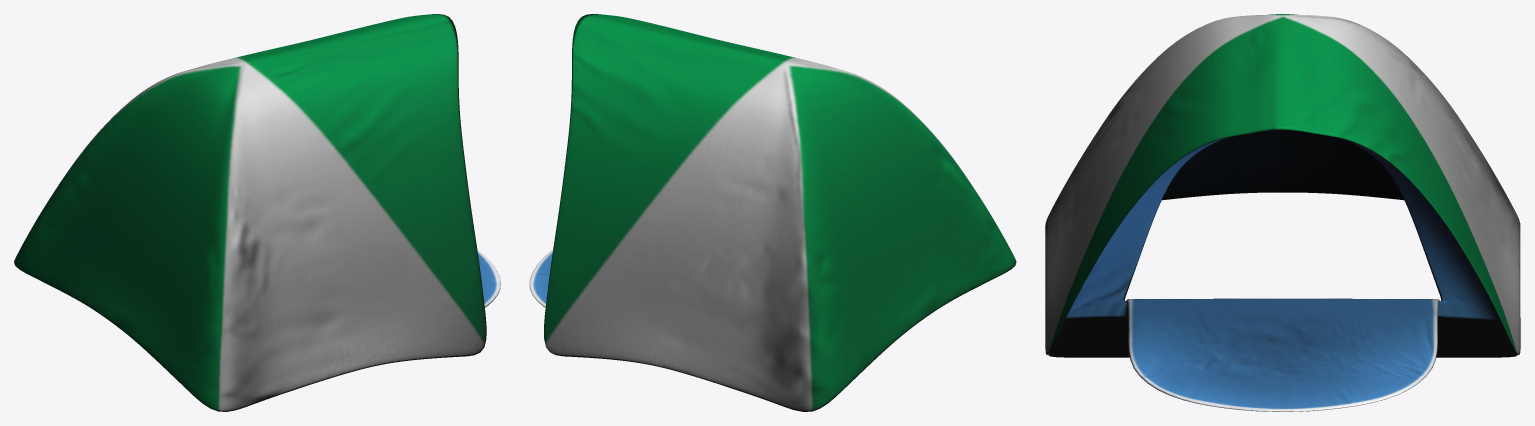
File: Tent.obj
3 views of the same model, side by side, from view 1: azimuth 30°, elevation 25°; view 2: azimuth 150°, elevation 25°; view 3: azimuth 270°, elevation 25° (orthographic). The views are drawn at different scales.
Parts seen in each view (by area): view 1: _Green_Mesh_Tent_V1_L3:_Green_Mesh_Tent_Base; view 2: _Green_Mesh_Tent_V1_L3:_Green_Mesh_Tent_Base; view 3: _Green_Mesh_Tent_V1_L3:_Green_Mesh_Tent_Base.
Part boxes in pixels (x1,y1,x2,y2): _Green_Mesh_Tent_V1_L3:_Green_Mesh_Tent_Base: [14, 14, 500, 411]; _Green_Mesh_Tent_V1_L3:_Green_Mesh_Tent_Base: [529, 14, 1016, 411]; _Green_Mesh_Tent_V1_L3:_Green_Mesh_Tent_Base: [1045, 14, 1520, 411].
Size of the model in its own units: 8.65 by 5.49 by 8.71.
